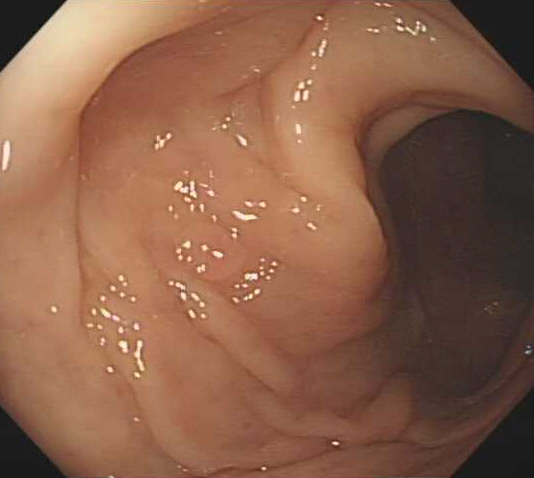others: (171, 218, 251, 284)
